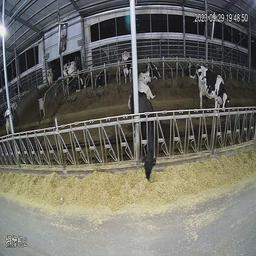cow: (131, 86, 160, 187), (195, 63, 229, 119), (57, 59, 80, 93), (117, 39, 132, 87), (139, 64, 158, 98), (92, 66, 106, 94), (149, 55, 163, 81), (184, 56, 198, 80)
